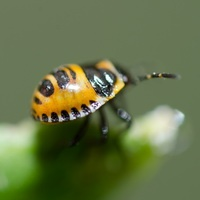insect: (31, 60, 134, 137)
